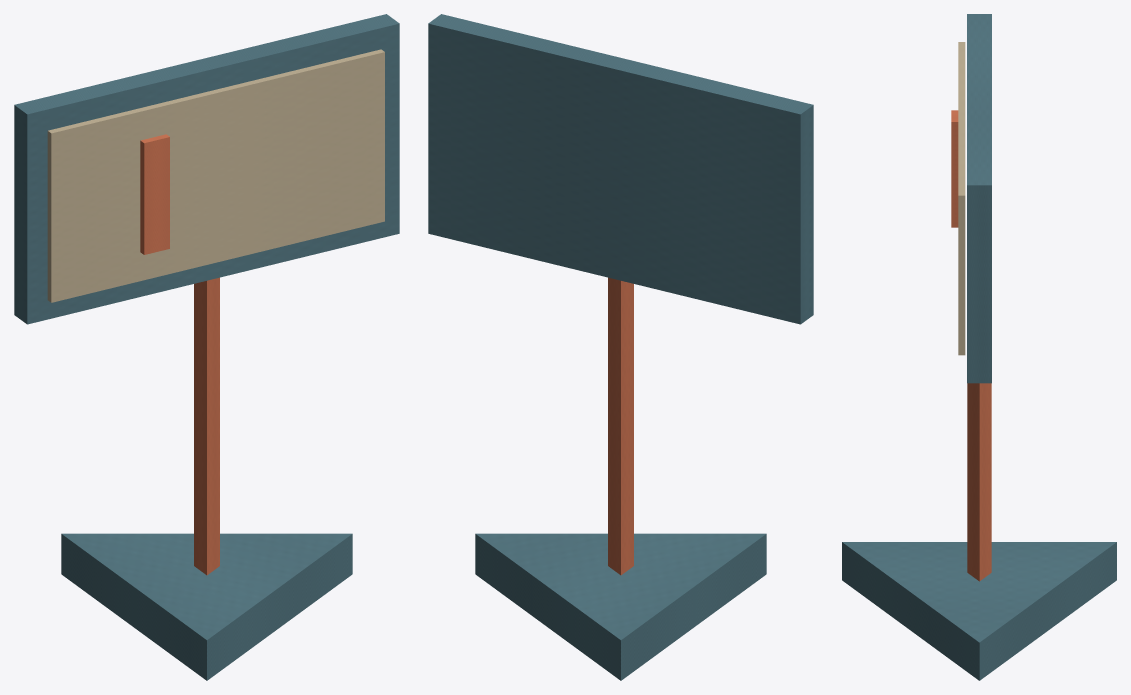
The model's file is atlas100-s041-a11.lod2.glb.
3 views of the same model, side by side, from view 1: azimuth 30°, elevation 25°; view 2: azimuth 150°, elevation 25°; view 3: azimuth 270°, elevation 25° (orthographic). The views are drawn at different scales.
Visible parts, largest first — view 1: atlas100-s041-a11:part-003, atlas100-s041-a11:part-002, atlas100-s041-a11:part-000, atlas100-s041-a11:part-001, atlas100-s041-a11:part-004; view 2: atlas100-s041-a11:part-002, atlas100-s041-a11:part-000, atlas100-s041-a11:part-001; view 3: atlas100-s041-a11:part-000, atlas100-s041-a11:part-002, atlas100-s041-a11:part-001, atlas100-s041-a11:part-003, atlas100-s041-a11:part-004.
Part boxes in pixels (left/top/right/bottom): atlas100-s041-a11:part-003: left=47, top=49, right=384, bottom=302; atlas100-s041-a11:part-002: left=14, top=14, right=399, bottom=324; atlas100-s041-a11:part-000: left=61, top=533, right=352, bottom=680; atlas100-s041-a11:part-001: left=194, top=277, right=219, bottom=575; atlas100-s041-a11:part-004: left=140, top=134, right=169, bottom=254; atlas100-s041-a11:part-002: left=428, top=14, right=813, bottom=324; atlas100-s041-a11:part-000: left=475, top=533, right=766, bottom=680; atlas100-s041-a11:part-001: left=608, top=277, right=633, bottom=575; atlas100-s041-a11:part-000: left=842, top=542, right=1116, bottom=680; atlas100-s041-a11:part-002: left=967, top=14, right=991, bottom=383; atlas100-s041-a11:part-001: left=967, top=383, right=991, bottom=581; atlas100-s041-a11:part-003: left=958, top=42, right=965, bottom=355; atlas100-s041-a11:part-004: left=951, top=110, right=958, bottom=227.
Bounding box in the file's own units: 1.15 × 1.61 × 0.7794.
Materials: 3 (3 with a texture image).
